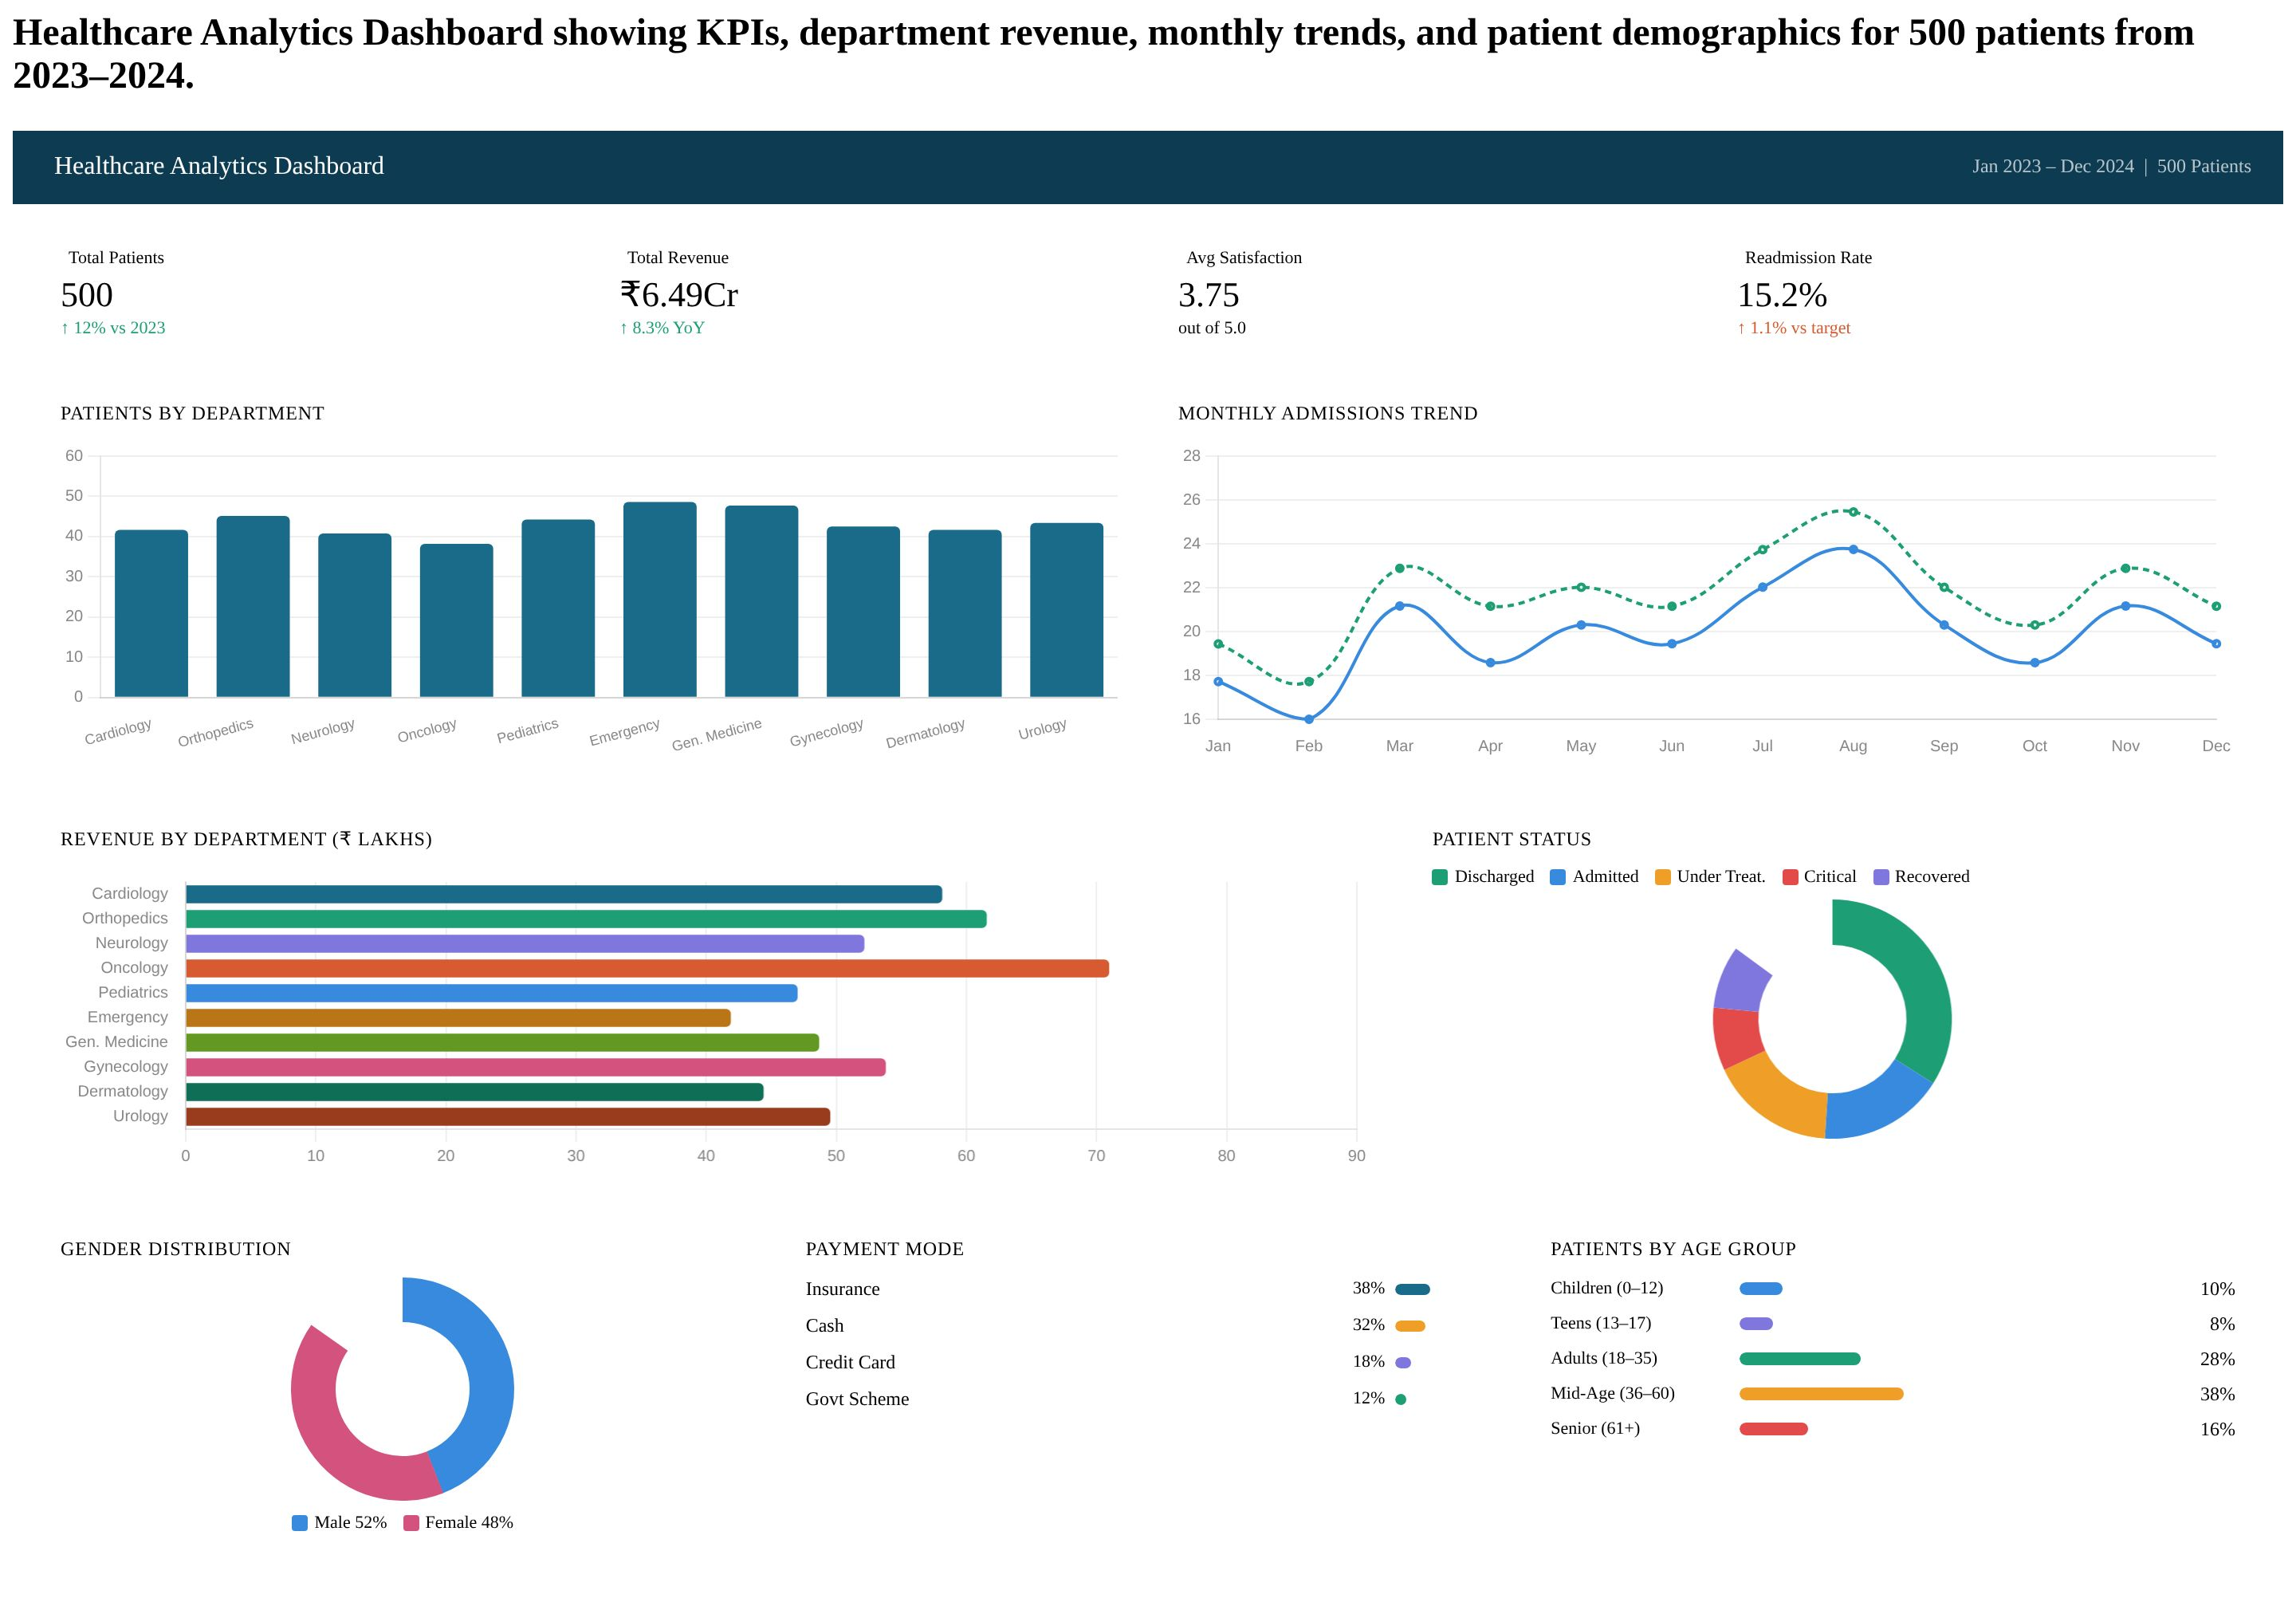

The dashboard page shown, as its layout file describes it:
{"tool":"powerbi","page":{"name":"Page 1","canvas":[1280,720],"ordinal":0},"visuals":[{"type":"cardVisual","fields":{"Data":["Age_Analysis.Total Patients","Age_Analysis.Total Revenue","Age_Analysis.Avg Satisfaction","Age_Analysis.Readmission Rate %"]},"box":[0,0,1280.3,119.8],"z":0},{"type":"clusteredColumnChart","fields":{"Category":["Patient_Data.Department"],"Y":["CountNonNull(Patient_Data.Patient_ID)"]},"box":[9.4,119.8,635.4,286.7],"z":1000},{"type":"clusteredBarChart","fields":{"Category":["Dept_Summary.Department"],"Y":["Age_Analysis.Top Dept Revenue"]},"box":[9.4,406.6,635.4,313.7],"z":2000},{"type":"lineChart","fields":{"Y":["Sum(Monthly_Trends.Admissions)"],"Category":["Monthly_Trends.Month"],"Series":["Monthly_Trends.Year"]},"box":[644.8,119.8,635.4,286.7],"z":3000},{"type":"donutChart","fields":{"Category":["Patient_Data.Status"],"Y":["CountNonNull(Patient_Data.Patient_ID)"]},"box":[644.8,406.6,635.4,313.7],"z":4000}]}

Visuals, with their boxes on the page's 1280x720 design canvas (x1, y1, x2, y2). These are canvas units, not pixel positions in the 2296x1606 screenshot, which may show the page scaled, cropped or inside an application window:
cardVisual - Age_Analysis.Total Patients x Age_Analysis.Total Revenue: x1=0, y1=0, x2=1280, y2=120
clusteredColumnChart - Patient_Data.Department x CountNonNull(Patient_Data.Patient_ID): x1=9, y1=120, x2=645, y2=406
clusteredBarChart - Dept_Summary.Department x Age_Analysis.Top Dept Revenue: x1=9, y1=407, x2=645, y2=720
lineChart - Sum(Monthly_Trends.Admissions) x Monthly_Trends.Month: x1=645, y1=120, x2=1280, y2=406
donutChart - Patient_Data.Status x CountNonNull(Patient_Data.Patient_ID): x1=645, y1=407, x2=1280, y2=720
